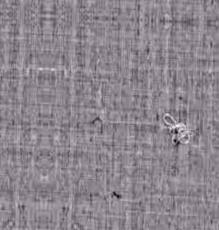snag: (160, 107, 204, 149)
